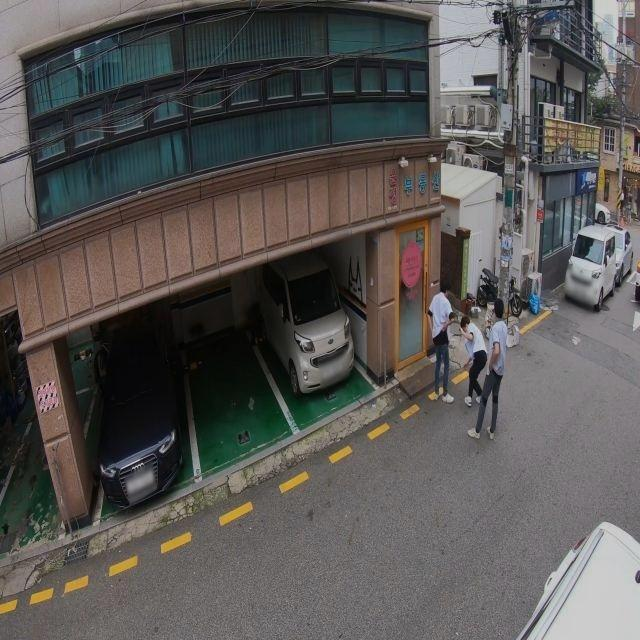fight: (425, 286, 488, 402)
non-fight: (470, 299, 507, 439)
